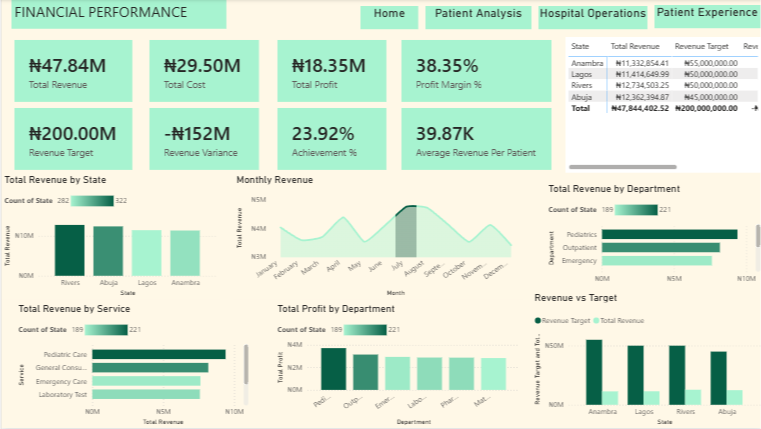

The page's visual inventory and layout, read from the dashboard file:
{"tool":"powerbi","page":{"name":"Financial Performance","canvas":[1280,720],"ordinal":3},"visuals":[{"type":"textbox","box":[16.8,0,361.2,50.4],"z":0},{"type":"cardVisual","fields":{"Data":["Date_Table.Total Revenue"]},"box":[16.8,63.8,208.3,114.2],"z":1000},{"type":"cardVisual","fields":{"Data":["Date_Table.Total Cost"]},"box":[243.6,63.8,194.9,114.2],"z":2000},{"type":"cardVisual","fields":{"Data":["Date_Table.Revenue Variance"]},"box":[243.6,178.1,194.9,114.2],"z":3000},{"type":"cardVisual","fields":{"Data":["Date_Table.Achievement %"]},"box":[458.6,178.1,193.2,114.2],"z":4000},{"type":"cardVisual","fields":{"Data":["Date_Table.Profit Margin %"]},"box":[666.9,63.8,262,114.2],"z":5000},{"type":"cardVisual","fields":{"Data":["Date_Table.Average Revenue Per Patient"]},"box":[666.9,178.1,262,114.2],"z":6000},{"type":"cardVisual","fields":{"Data":["Date_Table.Total Profit"]},"box":[458.6,63.8,193.2,114.2],"z":7000},{"type":"cardVisual","fields":{"Data":["Date_Table.Revenue Target"]},"box":[16.8,178.1,208.3,114.2],"z":8000},{"type":"lineChart","title":"Monthly Revenue","fields":{"Category":["Date_Table.Date.Variation.Date Hierarchy.Month"],"Y":["Date_Table.Total Revenue"]},"box":[389.7,292.3,485.5,211.7],"z":9000},{"type":"clusteredColumnChart","fields":{"Category":["Patient_Visits.State"],"Y":["Date_Table.Total Revenue"]},"box":[0,292.3,366.2,211.7],"z":10000},{"type":"barChart","fields":{"Category":["Patient_Visits.Department"],"Y":["Date_Table.Total Revenue"]},"box":[913.8,307.4,366.2,179.7],"z":11000},{"type":"barChart","fields":{"Category":["Patient_Visits.Service"],"Y":["Date_Table.Total Revenue"]},"box":[23.5,509,396.4,211.7],"z":12000},{"type":"clusteredColumnChart","fields":{"Category":["Patient_Visits.Department"],"Y":["Date_Table.Total Profit"]},"box":[458.6,509,416.6,211.7],"z":13000},{"type":"clusteredColumnChart","title":"Revenue vs Target ","fields":{"Category":["Patient_Visits.State"],"Y":["Date_Table.Revenue Target","Date_Table.Total Revenue"]},"box":[890.3,490.5,389.7,230.1],"z":14000},{"type":"pivotTable","fields":{"Rows":["Patient_Visits.State"],"Values":["Date_Table.Total Revenue","Date_Table.Revenue Target","Date_Table.Revenue Variance","Date_Table.Achievement %"]},"box":[947.4,63.8,327.6,228.5],"z":15000},{"type":"actionButton","title":"Patient Analysis","box":[712.2,11.8,178.1,40.3],"z":15001},{"type":"actionButton","title":"Hospital Operations","box":[902,11.8,183.1,40.3],"z":15002},{"type":"actionButton","title":"Patient Experience","box":[1096.9,10.1,178.1,40.3],"z":15003},{"type":"actionButton","title":"Home","box":[603,11.8,97.4,40.3],"z":15004}]}

Visuals, with their boxes in screenshot pixels (x1, y1, x2, y2), scaled from the page's 1280x720 canvas onto the 761x429 screenshot:
textbox: bbox=(10, 0, 225, 30)
cardVisual - Date_Table.Total Revenue: bbox=(10, 38, 134, 106)
cardVisual - Date_Table.Total Cost: bbox=(145, 38, 261, 106)
cardVisual - Date_Table.Revenue Variance: bbox=(145, 106, 261, 174)
cardVisual - Date_Table.Achievement %: bbox=(273, 106, 388, 174)
cardVisual - Date_Table.Profit Margin %: bbox=(396, 38, 552, 106)
cardVisual - Date_Table.Average Revenue Per Patient: bbox=(396, 106, 552, 174)
cardVisual - Date_Table.Total Profit: bbox=(273, 38, 388, 106)
cardVisual - Date_Table.Revenue Target: bbox=(10, 106, 134, 174)
"Monthly Revenue" lineChart: bbox=(232, 174, 520, 300)
clusteredColumnChart - Patient_Visits.State x Date_Table.Total Revenue: bbox=(0, 174, 218, 300)
barChart - Patient_Visits.Department x Date_Table.Total Revenue: bbox=(543, 183, 760, 290)
barChart - Patient_Visits.Service x Date_Table.Total Revenue: bbox=(14, 303, 250, 428)
clusteredColumnChart - Patient_Visits.Department x Date_Table.Total Profit: bbox=(273, 303, 520, 428)
"Revenue vs Target " clusteredColumnChart: bbox=(529, 292, 760, 428)
pivotTable - Patient_Visits.State x Date_Table.Total Revenue: bbox=(563, 38, 758, 174)
"Patient Analysis" actionButton: bbox=(423, 7, 529, 31)
"Hospital Operations" actionButton: bbox=(536, 7, 645, 31)
"Patient Experience" actionButton: bbox=(652, 6, 758, 30)
"Home" actionButton: bbox=(359, 7, 416, 31)
